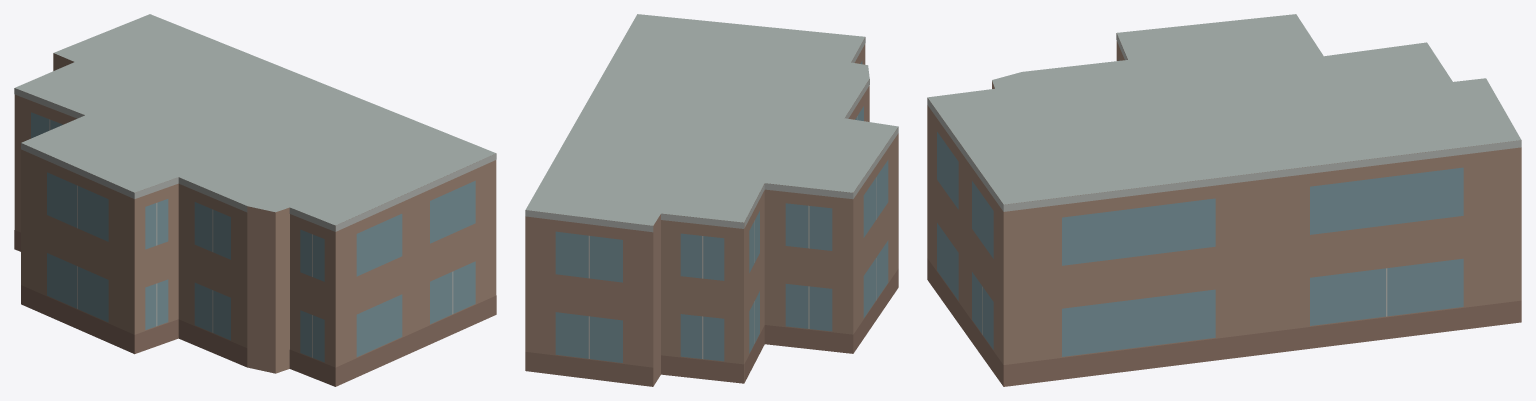
File: survey-upis-32933954.glb
3 renders of one model, left to right at view 1: azimuth 30°, elevation 25°; view 2: azimuth 150°, elevation 25°; view 3: azimuth 270°, elevation 25°, orthographic. The views are drawn at different scales.
Parts seen in each view (by area): view 1: survey-upis-32933954.tmp; view 2: survey-upis-32933954.tmp; view 3: survey-upis-32933954.tmp.
Part boxes in pixels (x1,y1,x2,y2): survey-upis-32933954.tmp: [14, 14, 496, 386]; survey-upis-32933954.tmp: [525, 14, 898, 386]; survey-upis-32933954.tmp: [927, 14, 1521, 386].
Bounding box in the file's own units: 13.69 × 6.1 × 18.04.
